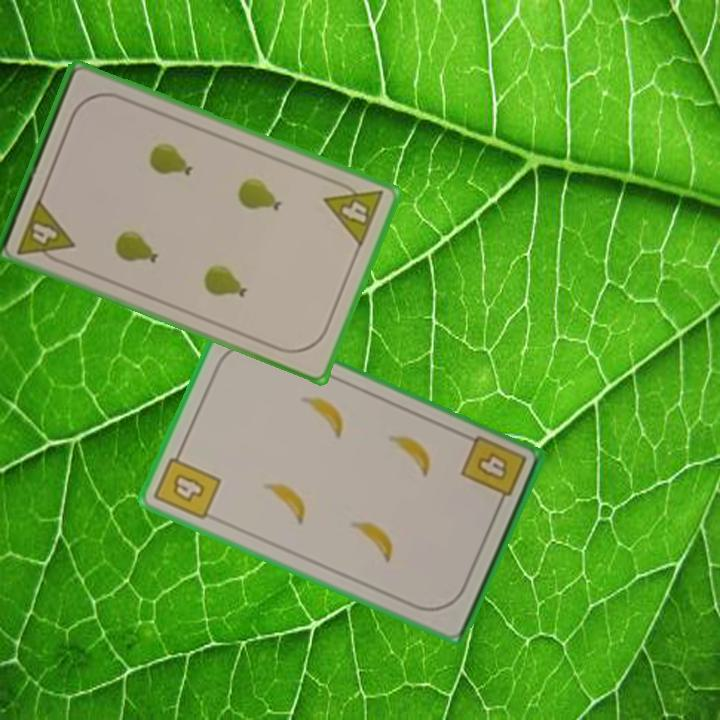4b: (150, 444, 224, 523), (457, 432, 529, 511)
4p: (320, 175, 387, 250), (13, 194, 77, 268)
